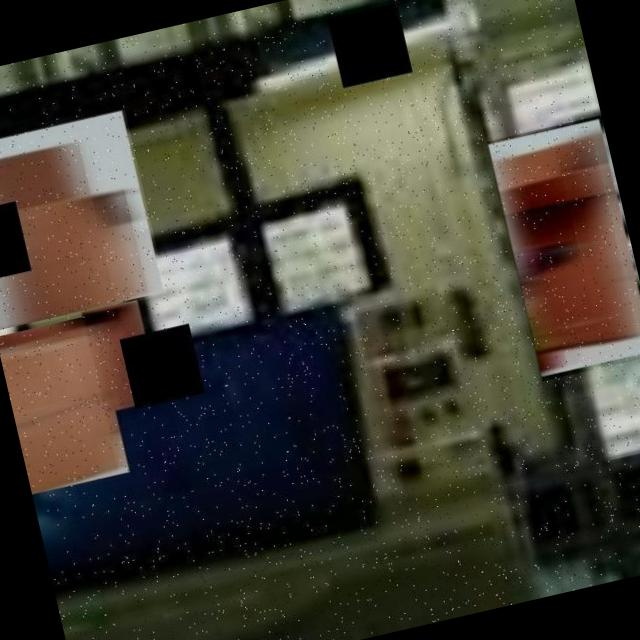box: (486, 114, 640, 380), (0, 108, 167, 333), (0, 311, 131, 497), (81, 298, 162, 414)
